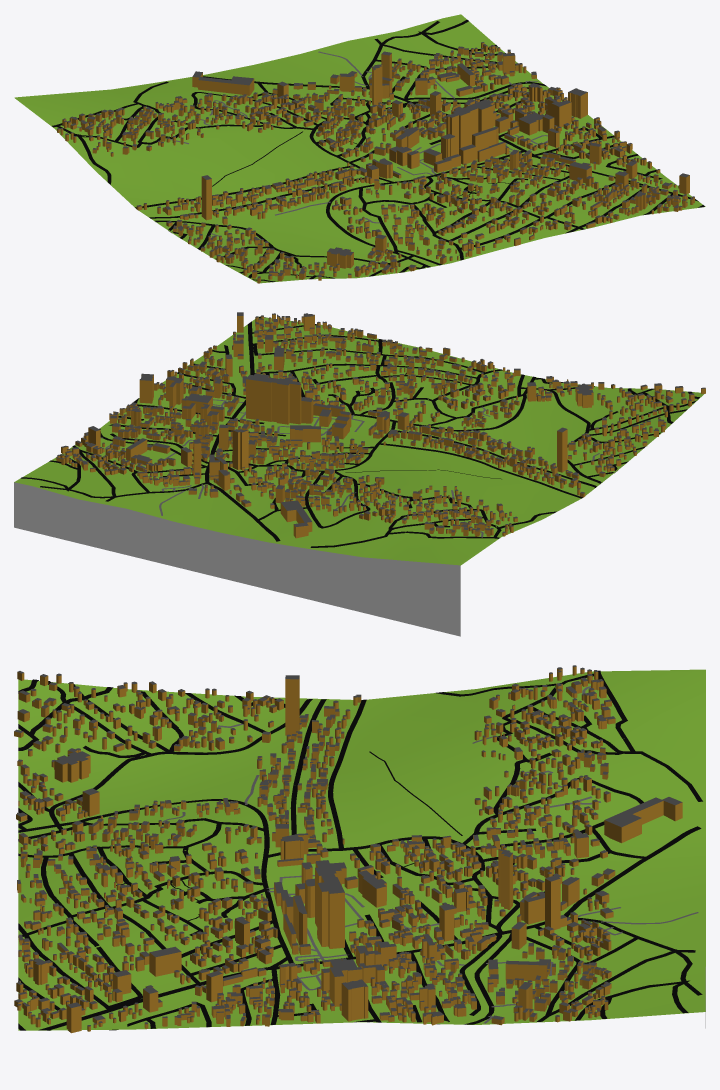
Rendered from tile_04_07.glb.
The picture shows the model from 3 angles, top to bottom: view 1: azimuth 30°, elevation 25°; view 2: azimuth 150°, elevation 25°; view 3: azimuth 270°, elevation 25°; orthographic projection. The views are drawn at different scales.
Parts seen in each view (by area): view 1: Terrain_04_07, Ub_small.osm_buildings_04_07, Ub_small.osm_roads_residential_04_07, Ub_small.osm_roads_tertiary_04_07, Ub_small.osm_roads_service_04_07, Ub_small.osm_roads_secondary_04_07; view 2: Terrain_04_07, Ub_small.osm_buildings_04_07, Ub_small.osm_roads_residential_04_07, Ub_small.osm_roads_tertiary_04_07, Ub_small.osm_roads_secondary_04_07, Ub_small.osm_roads_service_04_07; view 3: Terrain_04_07, Ub_small.osm_buildings_04_07, Ub_small.osm_roads_residential_04_07, Ub_small.osm_roads_tertiary_04_07, Ub_small.osm_roads_service_04_07, Ub_small.osm_roads_secondary_04_07.
Boxes of the visible parts, bbox=[...] form: Terrain_04_07: bbox=[14, 14, 705, 283]; Ub_small.osm_buildings_04_07: bbox=[57, 42, 694, 283]; Ub_small.osm_roads_residential_04_07: bbox=[52, 19, 704, 282]; Ub_small.osm_roads_tertiary_04_07: bbox=[149, 38, 546, 267]; Ub_small.osm_roads_service_04_07: bbox=[71, 51, 547, 239]; Ub_small.osm_roads_secondary_04_07: bbox=[203, 76, 698, 201]; Terrain_04_07: bbox=[14, 316, 703, 636]; Ub_small.osm_buildings_04_07: bbox=[56, 312, 705, 538]; Ub_small.osm_roads_residential_04_07: bbox=[21, 316, 699, 547]; Ub_small.osm_roads_tertiary_04_07: bbox=[99, 376, 596, 520]; Ub_small.osm_roads_secondary_04_07: bbox=[205, 321, 280, 541]; Ub_small.osm_roads_service_04_07: bbox=[100, 399, 599, 537]; Terrain_04_07: bbox=[18, 669, 705, 1030]; Ub_small.osm_buildings_04_07: bbox=[14, 665, 682, 1033]; Ub_small.osm_roads_residential_04_07: bbox=[18, 670, 702, 1030]; Ub_small.osm_roads_tertiary_04_07: bbox=[18, 699, 695, 1024]; Ub_small.osm_roads_service_04_07: bbox=[48, 686, 698, 1030]; Ub_small.osm_roads_secondary_04_07: bbox=[38, 826, 701, 1030].
Size of the model in its own units: 987 by 184 by 934.
